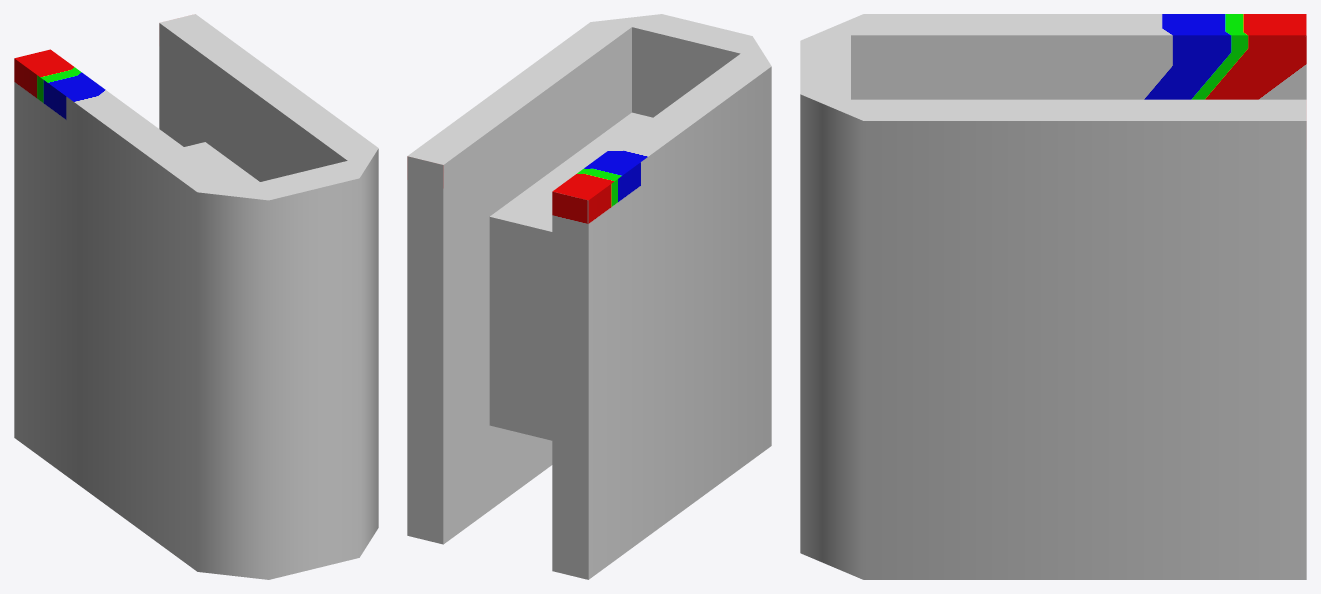
Rendered from random-books.glb.
The picture shows the model from 3 angles, left to right: view 1: azimuth 30°, elevation 25°; view 2: azimuth 150°, elevation 25°; view 3: azimuth 270°, elevation 25°; orthographic projection. The views are drawn at different scales.
Visible parts, largest first — view 1: __X_BODY__Book.001; view 2: __X_BODY__Book.001; view 3: __X_BODY__Book.001.
Part boxes in pixels (x1,y1,x2,y2): __X_BODY__Book.001: (14, 14, 378, 579); __X_BODY__Book.001: (407, 14, 771, 579); __X_BODY__Book.001: (800, 14, 1306, 579).
Size of the model in its own units: 0.02 by 0.04 by 0.04.
1 material, 1 textured.
